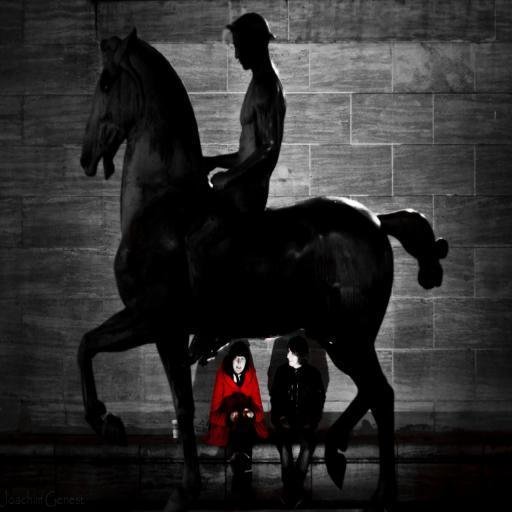horse: (76, 24, 452, 494)
